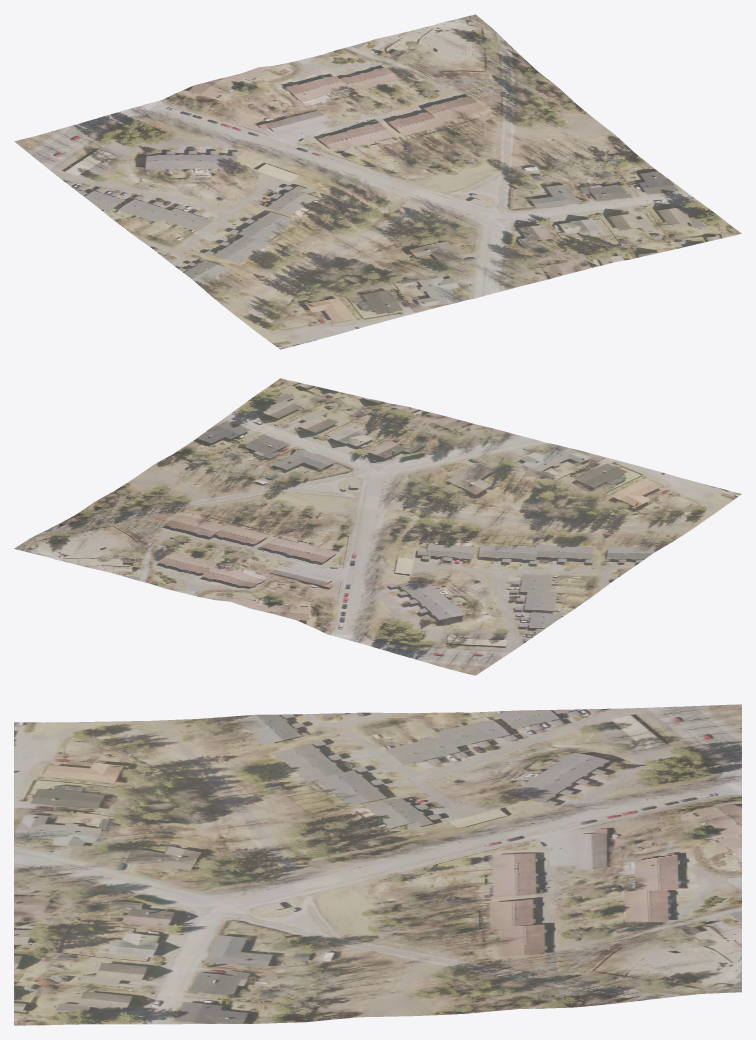
Rendered from CM_Terrain_24491892_6814469.fbx.
The picture shows the model from 3 angles, top to bottom: view 1: azimuth 30°, elevation 25°; view 2: azimuth 150°, elevation 25°; view 3: azimuth 270°, elevation 25°; orthographic projection. The views are drawn at different scales.
Visible parts, largest first — view 1: CM_Terrain_24491892_6814469_LOD0; view 2: CM_Terrain_24491892_6814469_LOD0; view 3: CM_Terrain_24491892_6814469_LOD0.
Boxes of the visible parts, box(x1,y1,x2,y2) form: CM_Terrain_24491892_6814469_LOD0: box(14, 14, 741, 349); CM_Terrain_24491892_6814469_LOD0: box(14, 378, 741, 675); CM_Terrain_24491892_6814469_LOD0: box(14, 704, 741, 1025).
Size of what is drawn, in the model's own units: 205 by 12.1 by 205.
